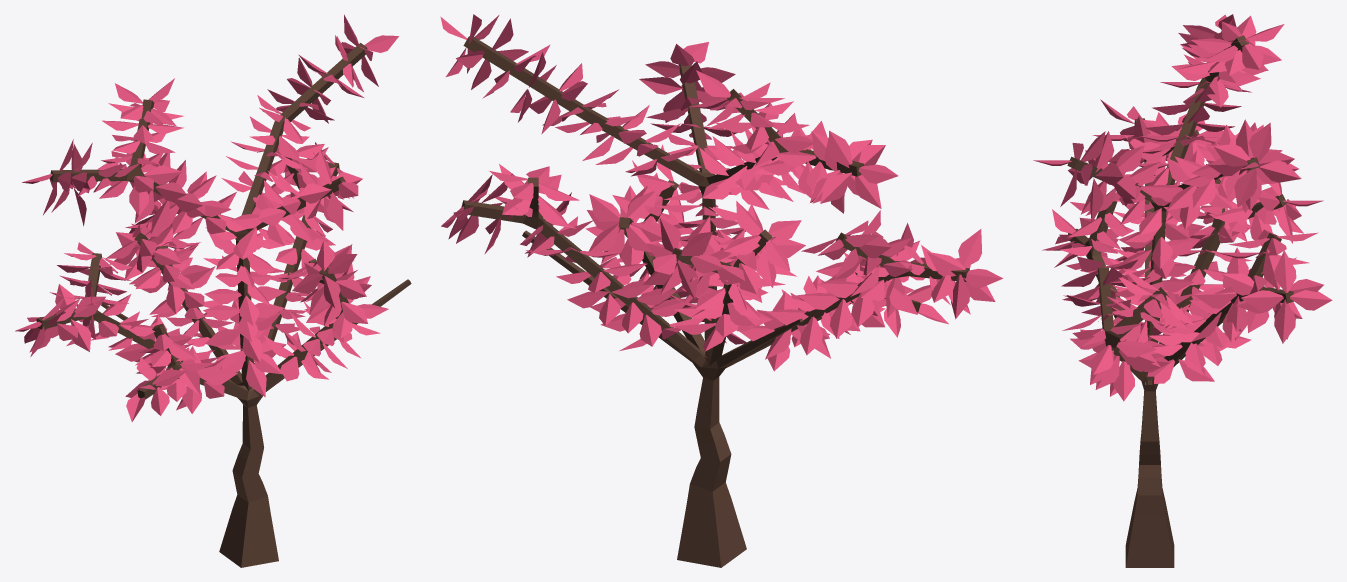
File: cerezo.fbx
3 views of the same model, side by side, from view 1: azimuth 30°, elevation 25°; view 2: azimuth 150°, elevation 25°; view 3: azimuth 270°, elevation 25° (orthographic). The views are drawn at different scales.
Visible parts, largest first — view 1: hoja cerezo, tronco; view 2: hoja cerezo, tronco; view 3: hoja cerezo, tronco.
Boxes of the visible parts, x1,y1,x2,y2 form: hoja cerezo: [15, 14, 398, 421]; tronco: [36, 43, 411, 567]; hoja cerezo: [440, 14, 1003, 371]; tronco: [461, 36, 969, 567]; hoja cerezo: [1033, 14, 1332, 401]; tronco: [1067, 30, 1293, 567].
Bounding box in the file's own units: 865 × 891 × 470.
